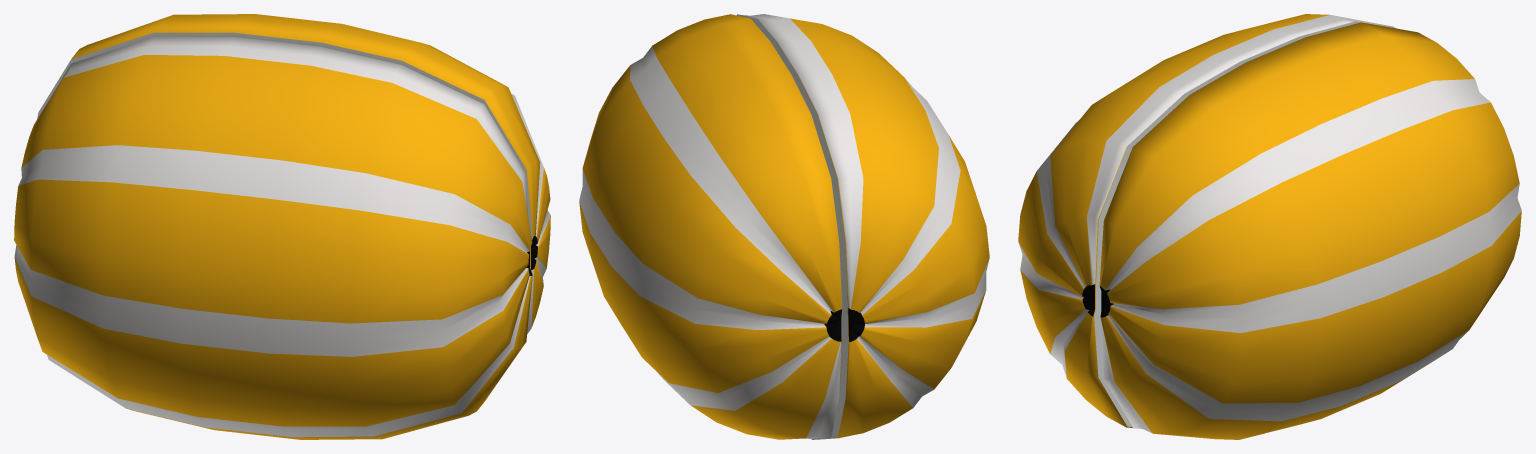
The model's file is koreamelon_side.gltf.
The picture shows the model from 3 angles, left to right: view 1: azimuth 30°, elevation 25°; view 2: azimuth 150°, elevation 25°; view 3: azimuth 270°, elevation 25°; orthographic projection. The views are drawn at different scales.
Parts seen in each view (by area): view 1: right, left; view 2: left, right; view 3: left, right.
Boxes of the visible parts, <box> form: right: <box>14,35,532,439</box>; left: <box>37,14,550,333</box>; left: <box>579,14,842,439</box>; right: <box>737,14,989,438</box>; left: <box>1099,22,1521,439</box>; right: <box>1018,14,1396,427</box>.
Bounding box in the file's own units: 2.69 × 2.11 × 2.7.
Materials: 8 (2 with a texture image).
